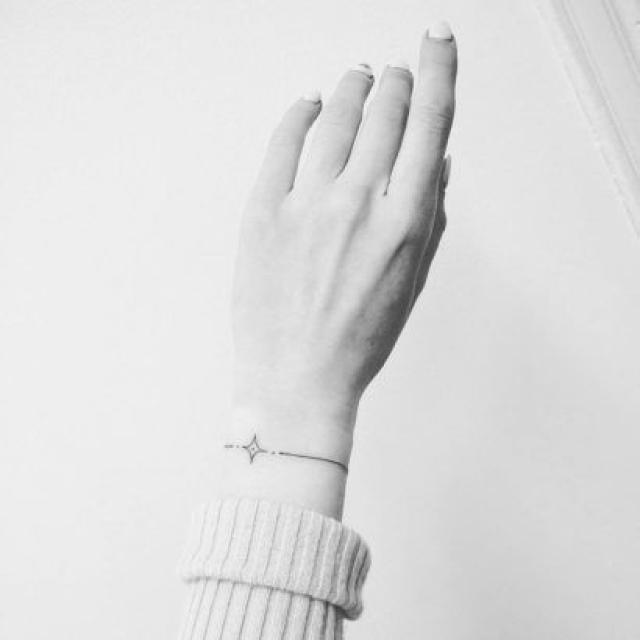Nail: (298, 88, 324, 105), (428, 22, 453, 37), (387, 55, 410, 71), (443, 158, 451, 191), (357, 64, 372, 76)
